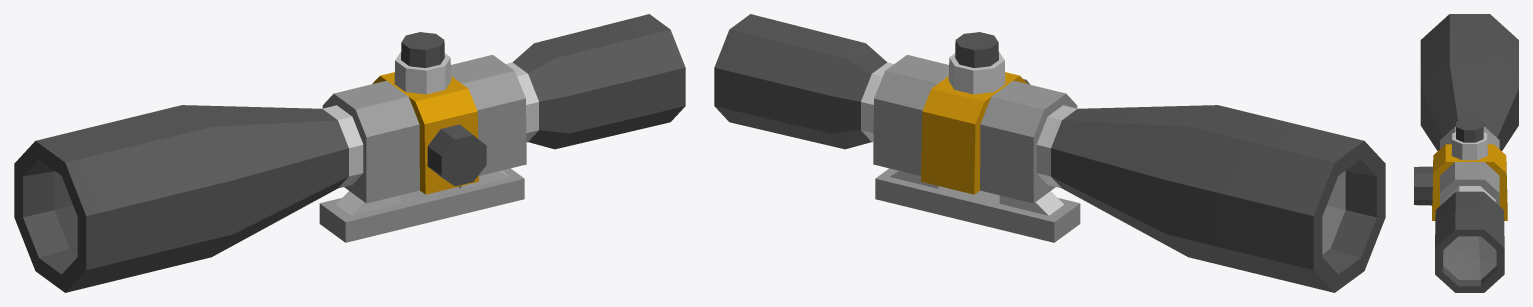
Rendered from SM_Scope01.fbx.
The picture shows the model from 3 angles, left to right: view 1: azimuth 30°, elevation 25°; view 2: azimuth 150°, elevation 25°; view 3: azimuth 270°, elevation 25°; orthographic projection. The views are drawn at different scales.
Visible parts, largest first — view 1: SM_Scope01; view 2: SM_Scope01; view 3: SM_Scope01.
Boxes of the visible parts, x1,y1,x2,y2 form: SM_Scope01: (14,14,685,292); SM_Scope01: (714,14,1385,292); SM_Scope01: (1414,14,1518,292).
Size of the model in its own units: 33.97 by 9.06 by 7.41.
